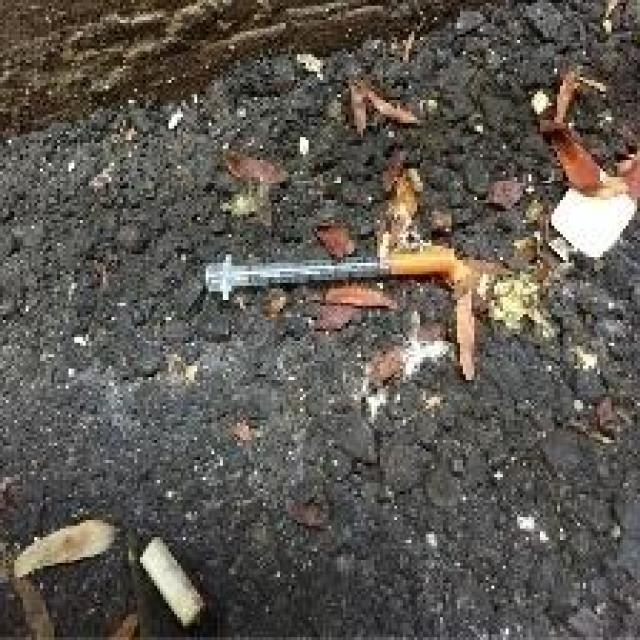syringe: (182, 236, 447, 379)
